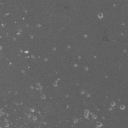corrosion: (84, 109, 90, 120), (109, 100, 117, 108), (97, 11, 104, 20), (53, 79, 60, 87), (119, 104, 126, 111), (36, 22, 42, 29), (32, 115, 38, 121), (40, 94, 46, 100), (15, 30, 21, 36), (79, 89, 85, 95), (83, 34, 89, 39), (43, 57, 48, 62), (66, 44, 71, 49), (73, 62, 78, 67), (24, 50, 29, 55), (93, 55, 98, 60), (84, 67, 89, 71)
